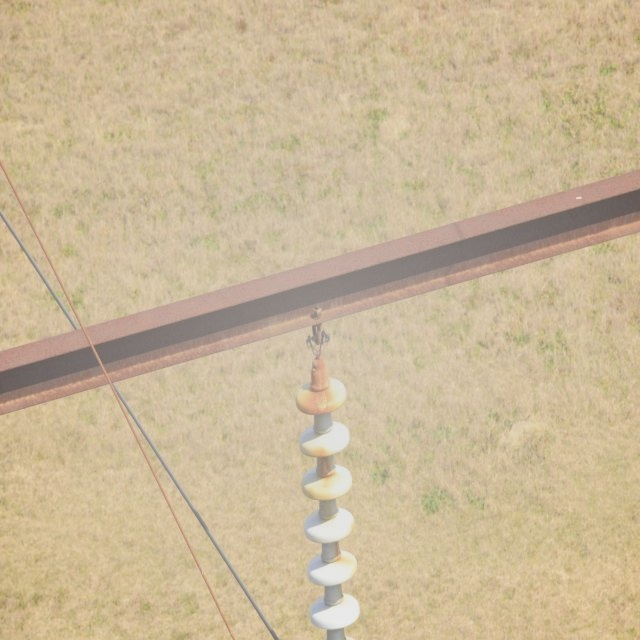insulator: (296, 376, 362, 632)
